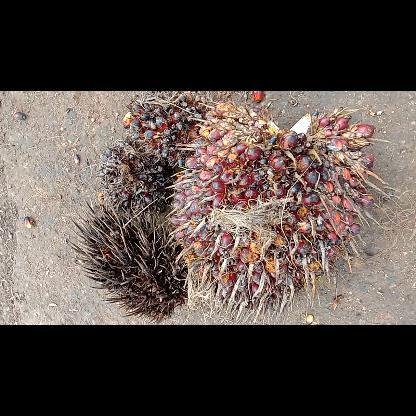Janjang kosong: (62, 196, 190, 324)
TBS abnormal: (96, 133, 176, 217), (126, 91, 206, 167)
TBS masak: (166, 100, 378, 324)
